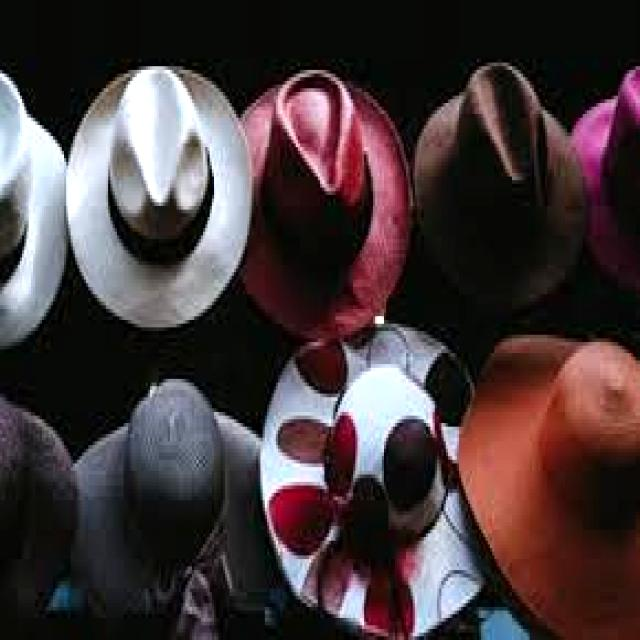hat: (261, 324, 483, 636), (460, 335, 639, 639), (73, 379, 278, 617), (67, 67, 251, 327), (241, 70, 412, 338), (415, 63, 584, 316), (0, 74, 68, 349), (0, 398, 77, 617), (574, 67, 639, 294)
